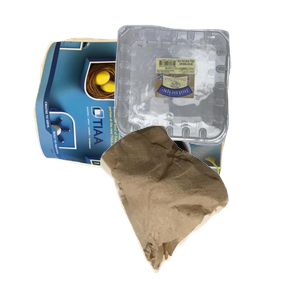glass: (115, 120, 300, 300)
paper: (31, 34, 252, 205)
plastic: (112, 22, 300, 160)
trash: (98, 123, 300, 300)
